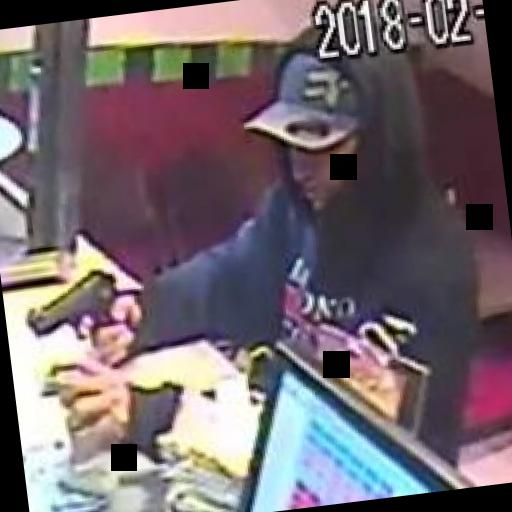Handgun: (16, 260, 144, 371)
